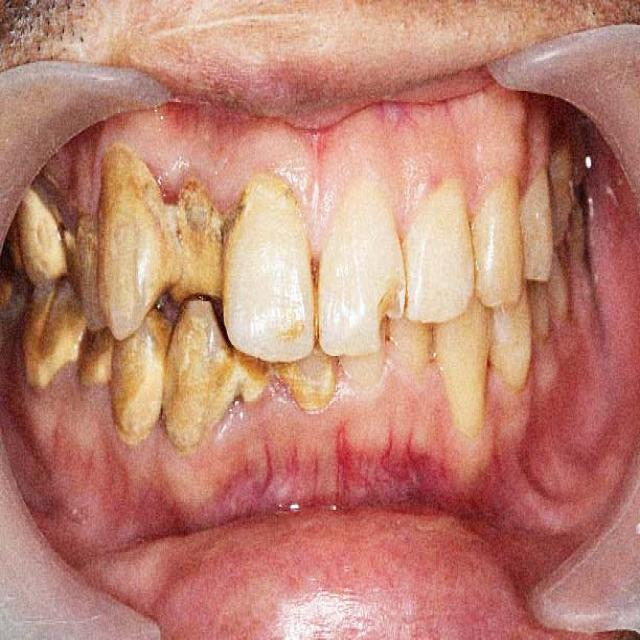caries: (365, 272, 417, 359)
